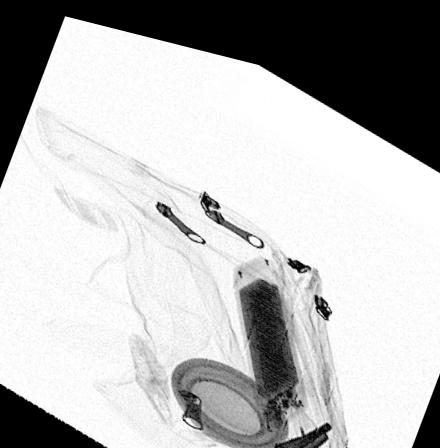Powerbank: (230, 245, 310, 423)
